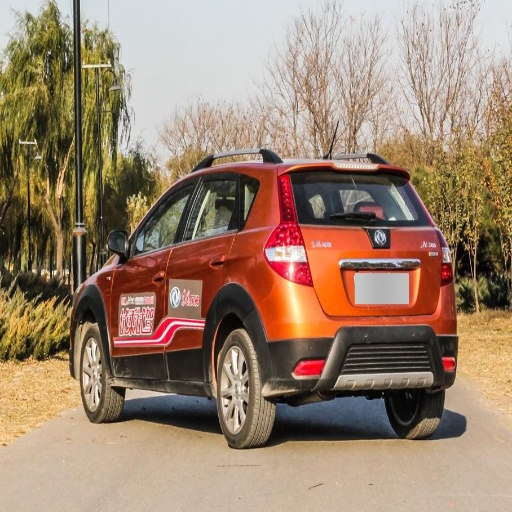back_bumper: (252, 273, 456, 399)
back_glass: (297, 170, 426, 224)
back_left_door: (165, 172, 237, 347)
tailgate: (298, 213, 426, 317)
trunk: (418, 226, 445, 315)
